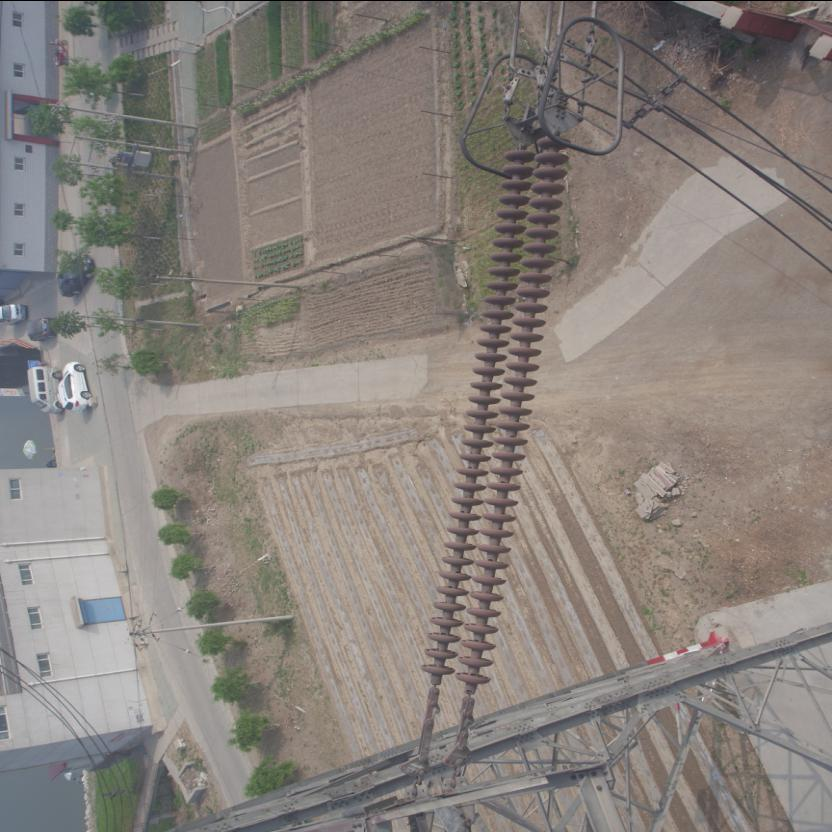insulator: (408, 120, 574, 718)
